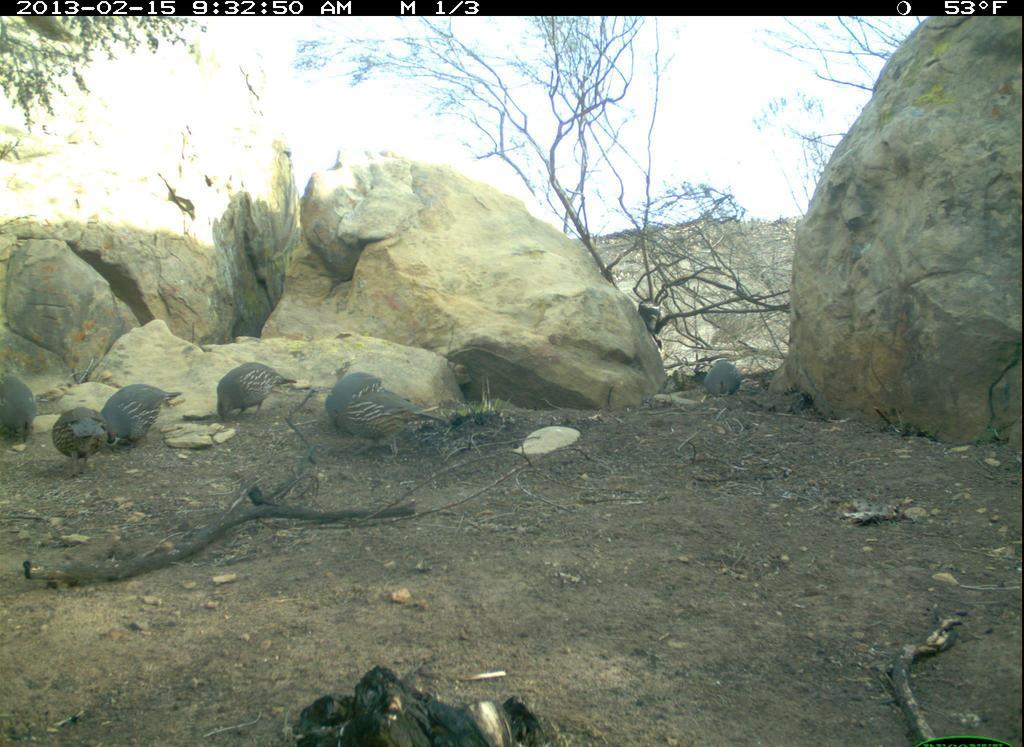bird: (332, 389, 454, 461), (208, 357, 302, 431), (97, 381, 187, 456), (49, 398, 118, 482), (324, 369, 386, 429), (3, 369, 43, 452), (701, 357, 746, 402)
